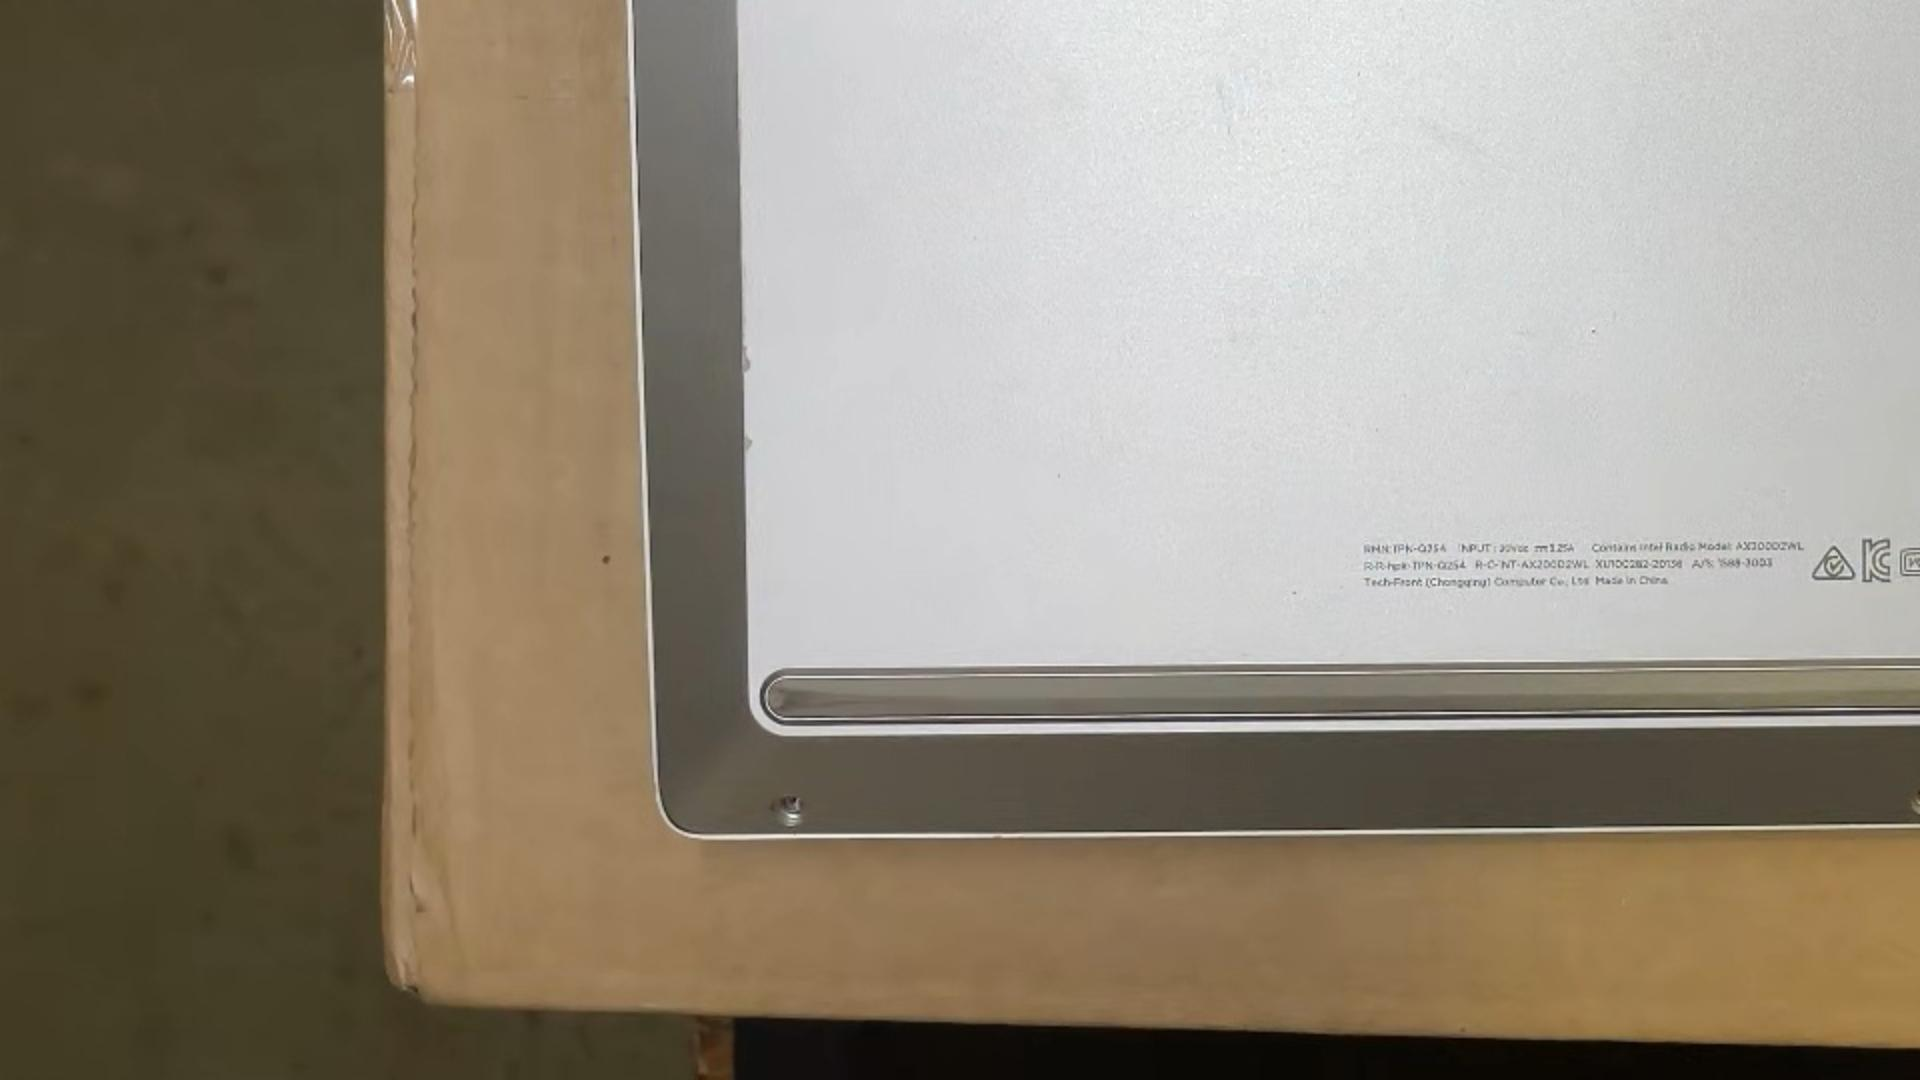chip: (1420, 120, 1480, 150), (1218, 82, 1240, 132), (741, 343, 750, 378), (742, 430, 754, 458), (1588, 324, 1601, 338)
